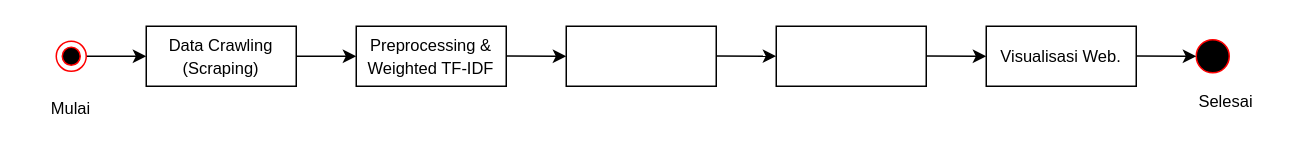
This 1296x158 diagram has some shape labels left out. The centre of each missing label's shape, as x and y in pixels:
"Apriori Association Rules" goes at point 850,55.
"K-Means Clustering" goes at point 640,55.
